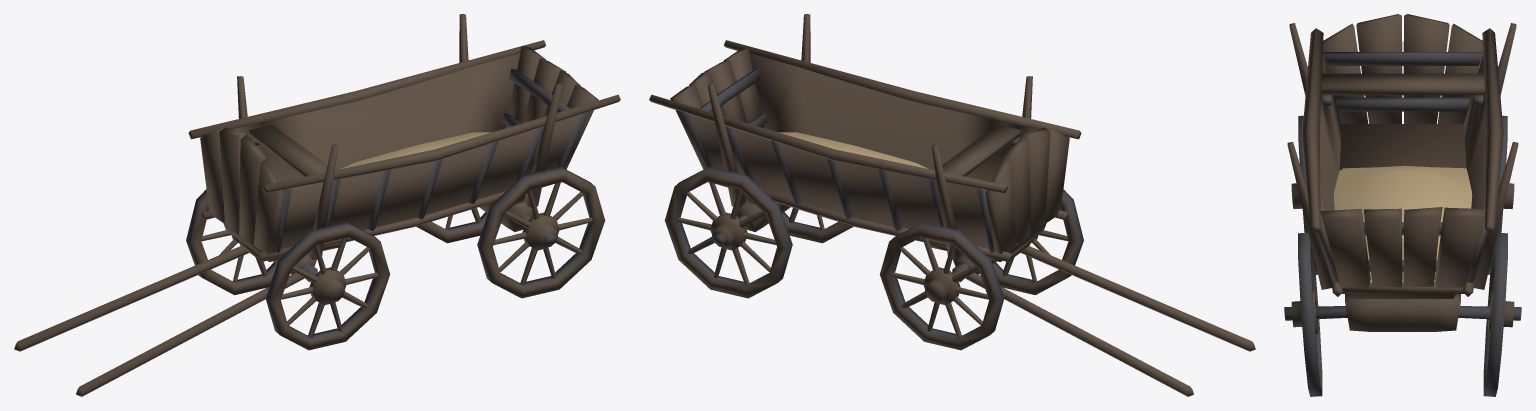
The model's file is waggon2.dae.
3 renders of one model, left to right at view 1: azimuth 30°, elevation 25°; view 2: azimuth 150°, elevation 25°; view 3: azimuth 270°, elevation 25°, orthographic. The views are drawn at different scales.
Parts seen in each view (by area): view 1: telega_proxy; view 2: telega_proxy; view 3: telega_proxy.
Boxes of the visible parts, bbox=[...] form: telega_proxy: bbox=[14, 14, 620, 396]; telega_proxy: bbox=[649, 14, 1255, 396]; telega_proxy: bbox=[1284, 14, 1521, 396].
Bounding box in the file's own units: 4.72 × 1.55 × 1.8.
Materials: 1 (1 with a texture image).
